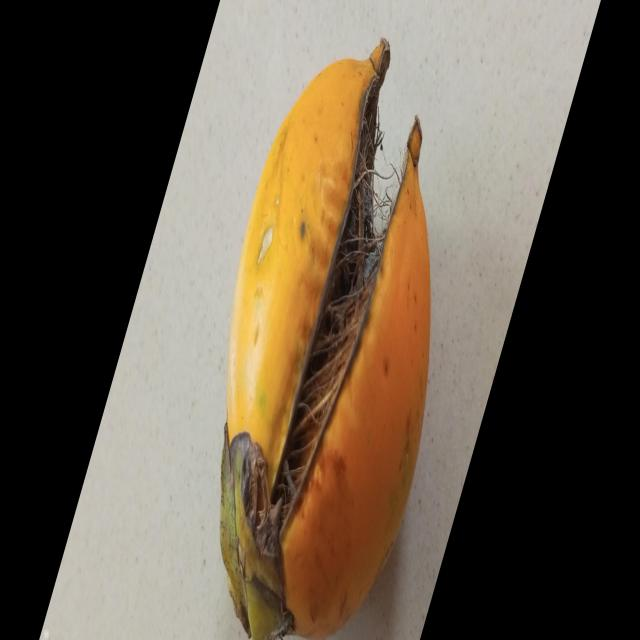damaged: (220, 39, 431, 640)
